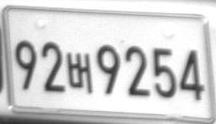2: (41, 40, 66, 92), (125, 45, 150, 96)
4: (179, 49, 205, 101)
5: (153, 47, 176, 98)
9: (95, 44, 120, 94), (14, 39, 37, 90)
버: (66, 52, 93, 94)
